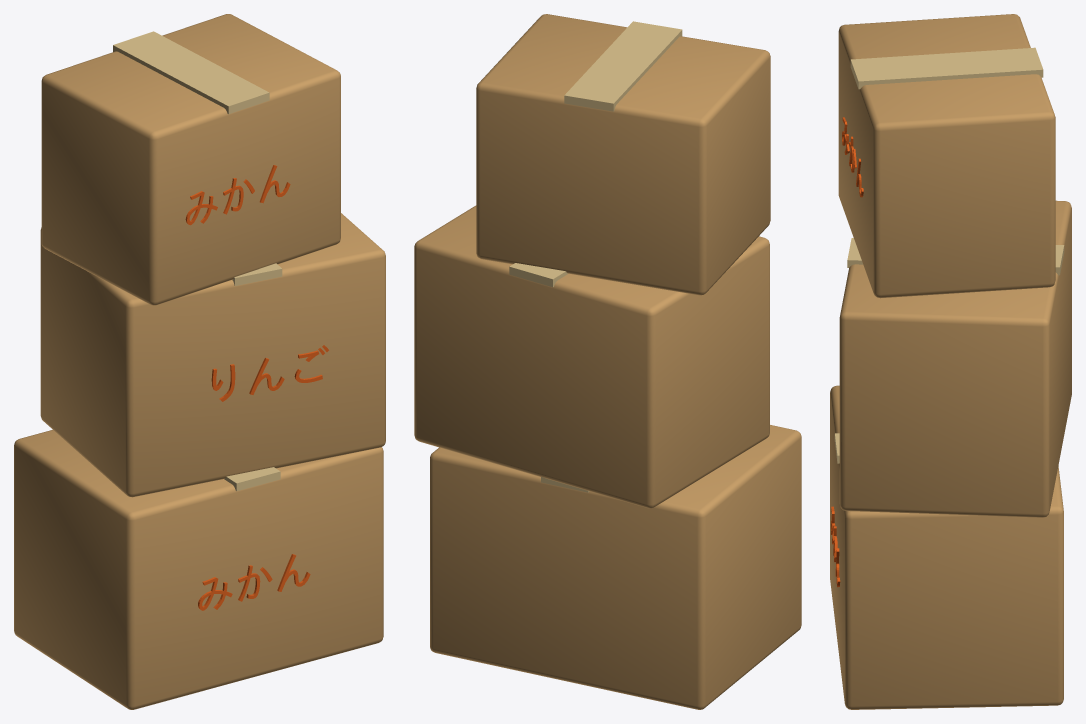
File: boxes.glb
3 views of the same model, side by side, from view 1: azimuth 30°, elevation 25°; view 2: azimuth 150°, elevation 25°; view 3: azimuth 270°, elevation 25° (orthographic).
Visible parts, largest first — view 1: boxes_body; view 2: boxes_body; view 3: boxes_body.
Part boxes in pixels (x1,y1,x2,y2): boxes_body: [14, 14, 385, 709]; boxes_body: [414, 14, 801, 709]; boxes_body: [830, 14, 1071, 709].
Size of the model in its own units: 0.7582 by 1.45 by 0.5508.
